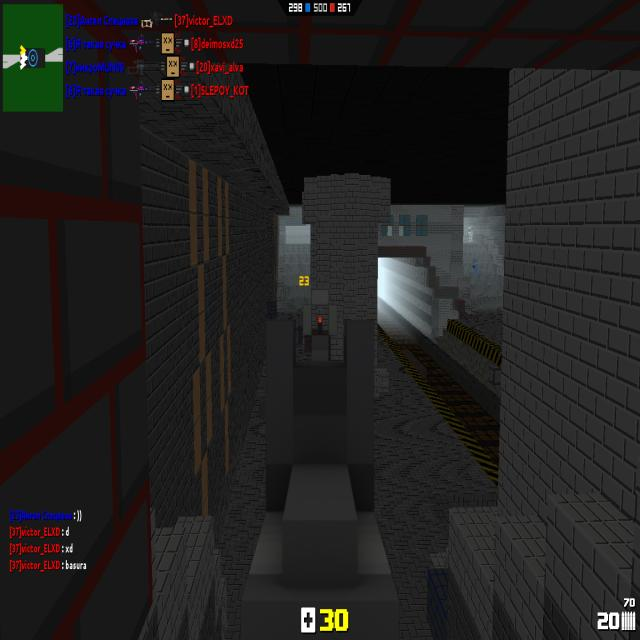enemy: (472, 258, 478, 278), (467, 225, 473, 244)
